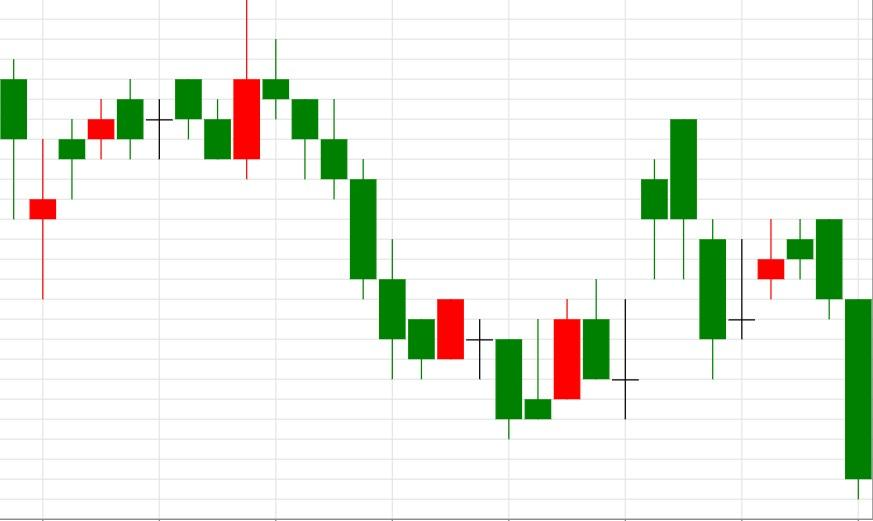inverse_hammer_rise: (233, 0, 553, 440)
three_black_crows_fall: (233, 0, 348, 199)
